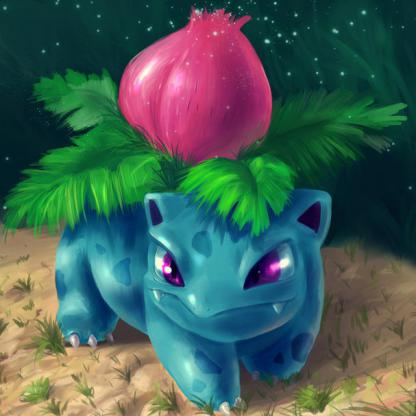Ivysaur: (21, 12, 384, 407)
